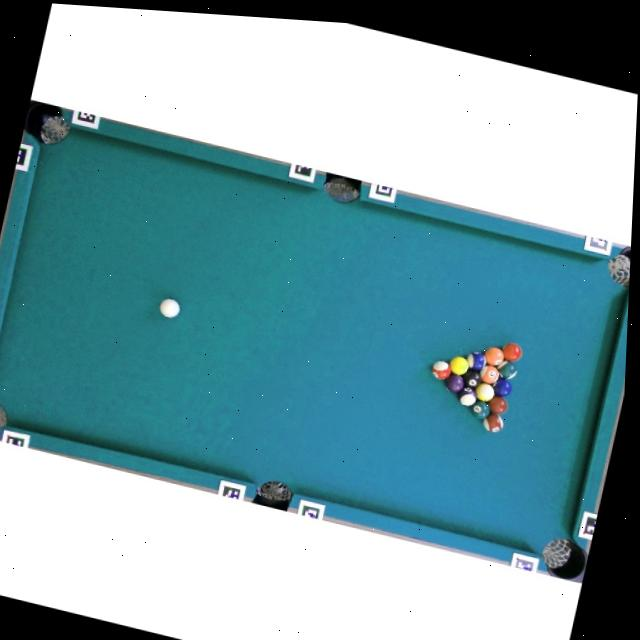cue ball: (156, 295, 181, 320)
other: (472, 380, 497, 405), (480, 410, 505, 435), (463, 348, 488, 373), (446, 353, 471, 378), (467, 397, 492, 422), (494, 357, 519, 381), (454, 384, 479, 408), (429, 358, 453, 382), (442, 371, 466, 395), (482, 344, 506, 368), (460, 367, 484, 391), (499, 340, 524, 363), (477, 362, 501, 385), (490, 376, 514, 399), (486, 394, 509, 416)
